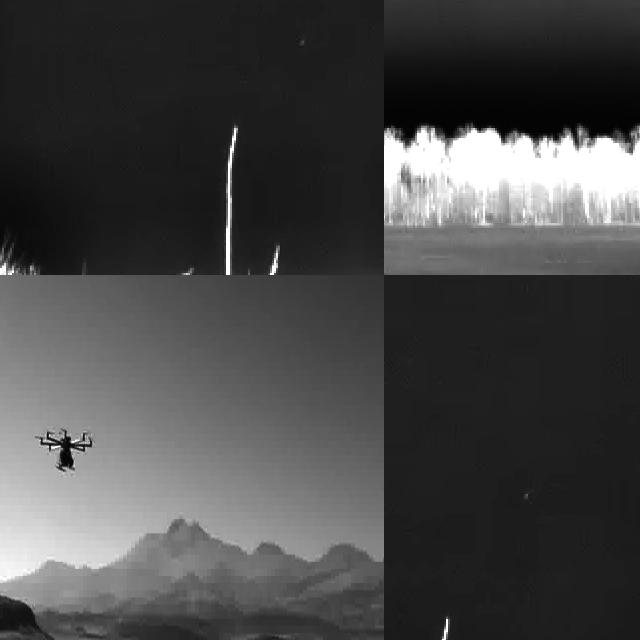0: (289, 28, 311, 63), (513, 485, 535, 515)
drone: (36, 418, 94, 480)
